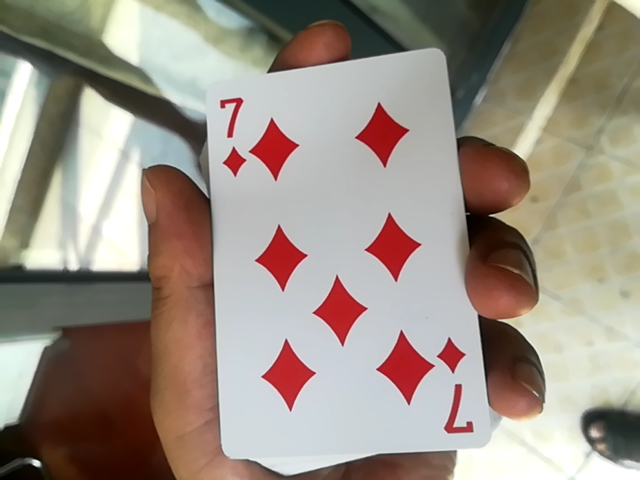fk 7: (190, 42, 469, 460)
